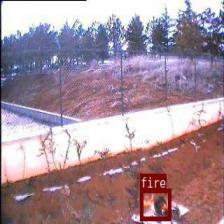fire: (140, 188, 170, 220)
